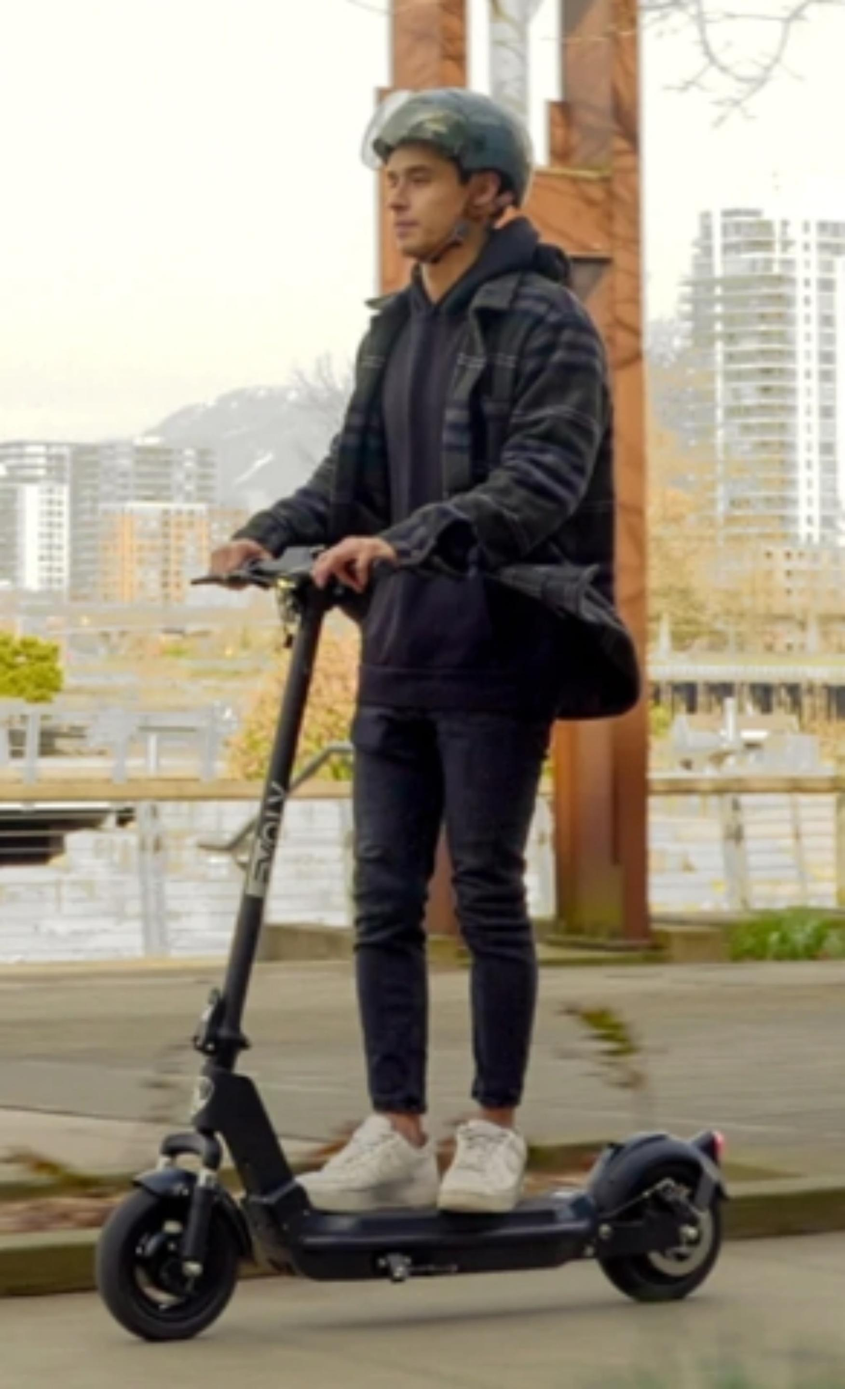helmet: (352, 88, 547, 297)
human: (202, 86, 586, 1198)
kickboard: (106, 1139, 723, 1339)
